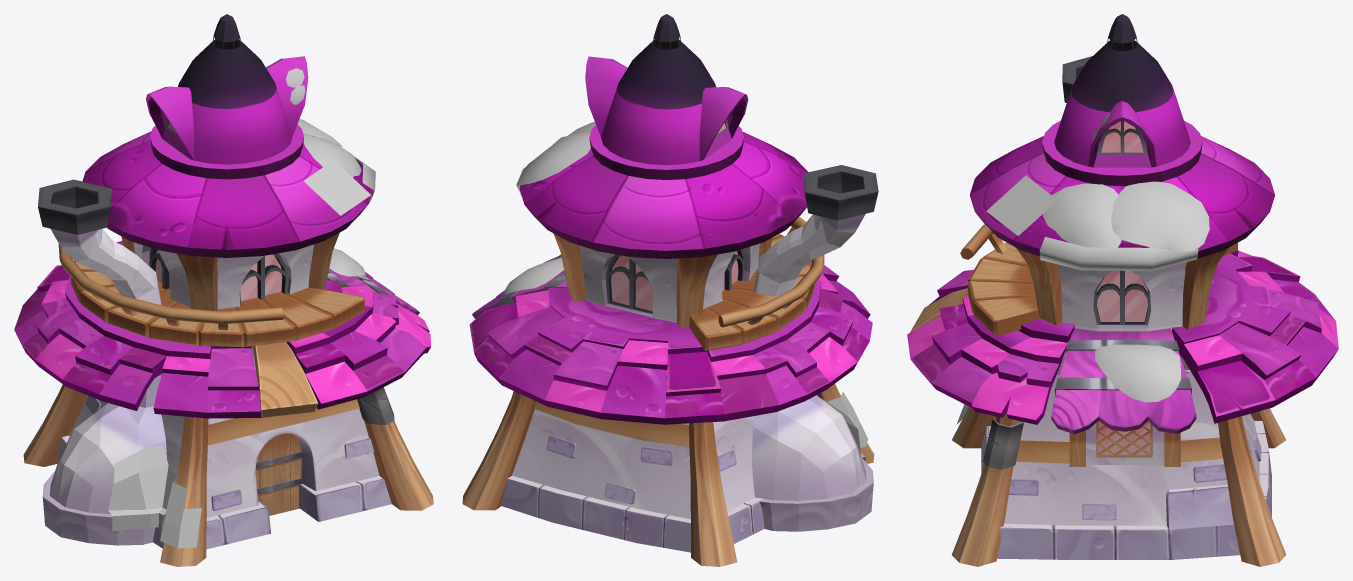
Rendered from variety_store 1.FBX.
3 renders of one model, left to right at view 1: azimuth 30°, elevation 25°; view 2: azimuth 150°, elevation 25°; view 3: azimuth 270°, elevation 25°, orthographic. The views are drawn at different scales.
Parts seen in each view (by area): view 1: 지붕, 1층지붕, 1층, 굴뚝, Plane005; view 2: 지붕, 1층지붕, 굴뚝, 1층, Plane005; view 3: 1층지붕, 지붕, 굴뚝, 1층, Plane005.
Boxes of the visible parts, x1,y1,x2,y2 form: 지붕: [58, 39, 372, 347]; 1층지붕: [14, 241, 430, 418]; 1층: [23, 346, 433, 566]; 굴뚝: [38, 14, 419, 548]; Plane005: [108, 68, 375, 548]; 지붕: [519, 39, 824, 351]; 1층지붕: [469, 243, 872, 424]; 굴뚝: [472, 14, 878, 552]; 1층: [462, 384, 874, 566]; Plane005: [502, 122, 868, 461]; 1층지붕: [907, 250, 1338, 424]; 지붕: [960, 40, 1274, 336]; 굴뚝: [997, 14, 1271, 559]; 1층: [952, 339, 1286, 566]; Plane005: [956, 112, 1209, 424].
Bounding box in the file's own units: 1210 × 1468 × 1186.
